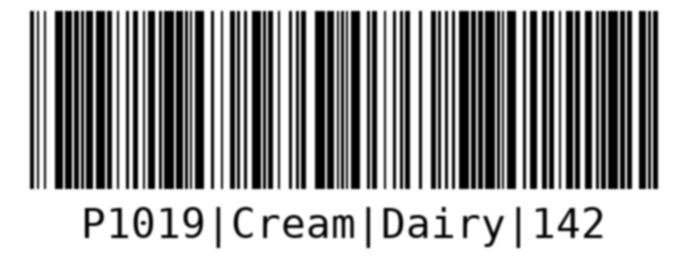milk: (26, 8, 662, 252)
